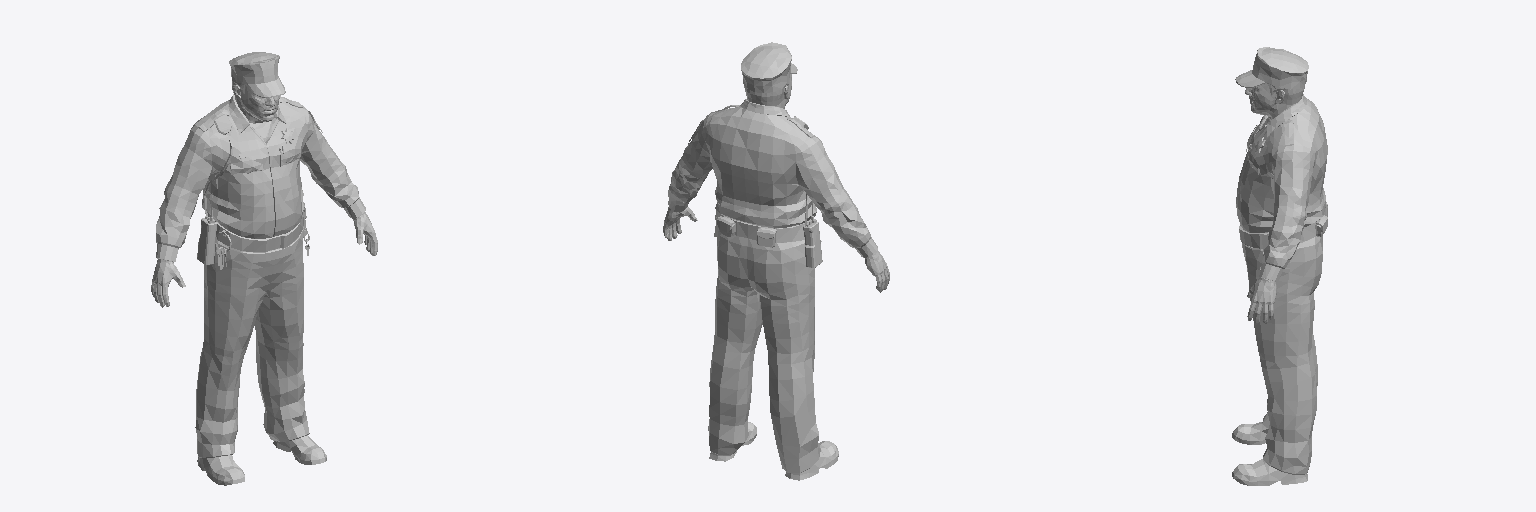
File: PB Brad Bellick.obj
3 views of the same model, side by side, from view 1: azimuth 30°, elevation 25°; view 2: azimuth 150°, elevation 25°; view 3: azimuth 270°, elevation 25° (orthographic).
Parts seen in each view (by area): view 1: Mesh_0044_Tex_0044_0_, Mesh_0037_Tex_0037_0_, Mesh_0038_Tex_0038_0_; view 2: Mesh_0044_Tex_0044_0_, Mesh_0037_Tex_0037_0_, Mesh_0038_Tex_0038_0_; view 3: Mesh_0044_Tex_0044_0_, Mesh_0037_Tex_0037_0_, Mesh_0038_Tex_0038_0_.
Boxes of the visible parts, x1=… form: Mesh_0044_Tex_0044_0_: x1=151, y1=94, x2=377, y2=485; Mesh_0037_Tex_0037_0_: x1=229, y1=52, x2=285, y2=97; Mesh_0038_Tex_0038_0_: x1=232, y1=81, x2=279, y2=123; Mesh_0044_Tex_0044_0_: x1=663, y1=99, x2=889, y2=480; Mesh_0037_Tex_0037_0_: x1=741, y1=42, x2=797, y2=92; Mesh_0038_Tex_0038_0_: x1=744, y1=74, x2=791, y2=108; Mesh_0044_Tex_0044_0_: x1=1232, y1=94, x2=1327, y2=485; Mesh_0037_Tex_0037_0_: x1=1235, y1=47, x2=1308, y2=89; Mesh_0038_Tex_0038_0_: x1=1245, y1=83, x2=1304, y2=120.
Size of the model in its own units: 1.04 by 1.84 by 0.3972.